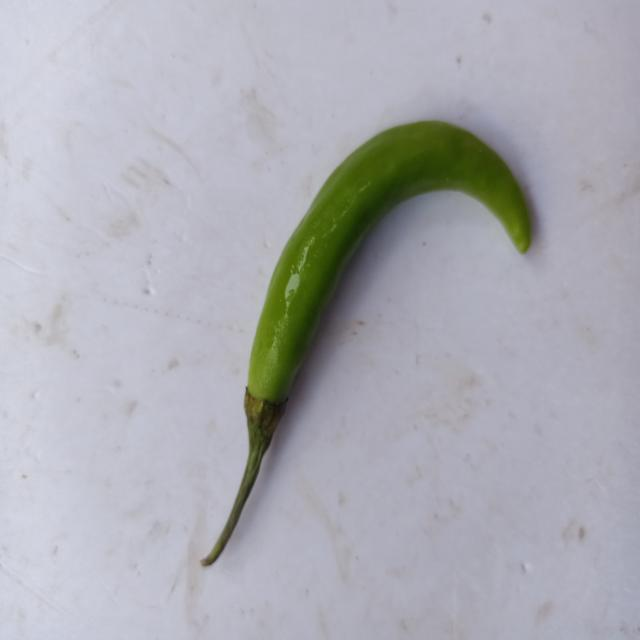Green Chilly: (201, 120, 531, 566)
